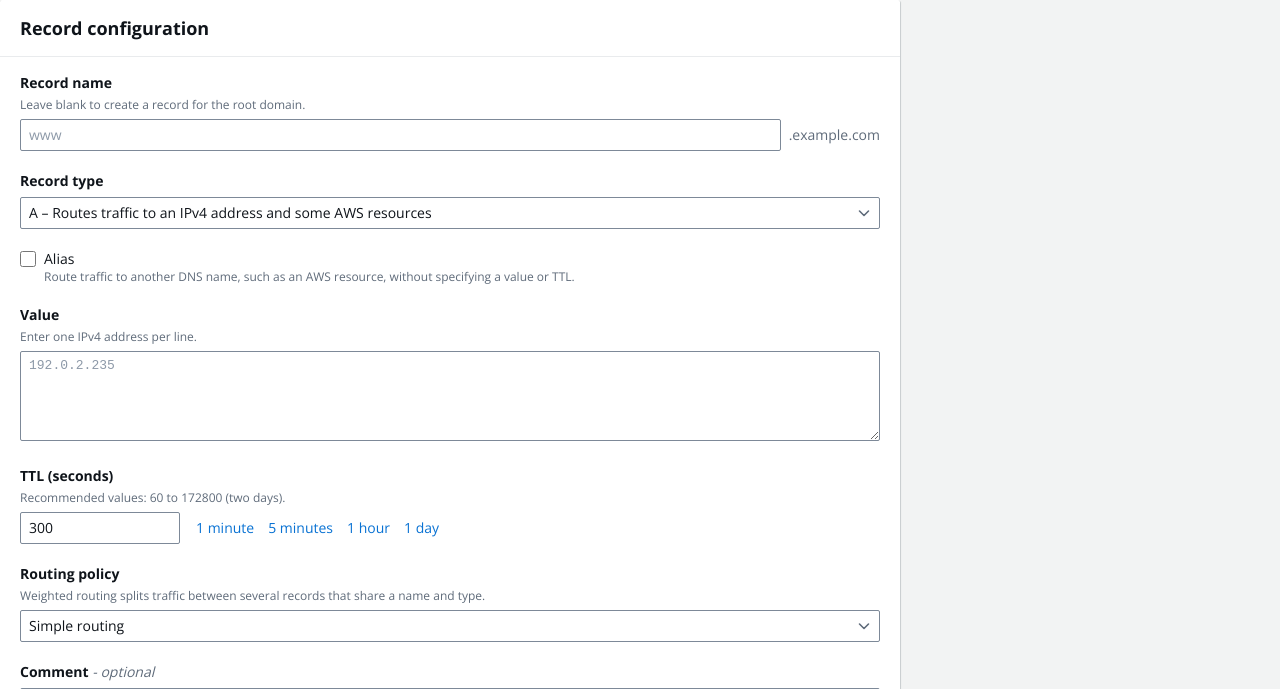
Test: <RecordForm> dynamic fields › offers alias only for the types that support it
Expected: the checkbox labelled "Alias" is shown, [20,251,36,267]
Select "TXT – Used to verify email senders and for application-specific values" in the dropdown labelled "Record type" at coordinates (450, 213), box [20,197,880,229]
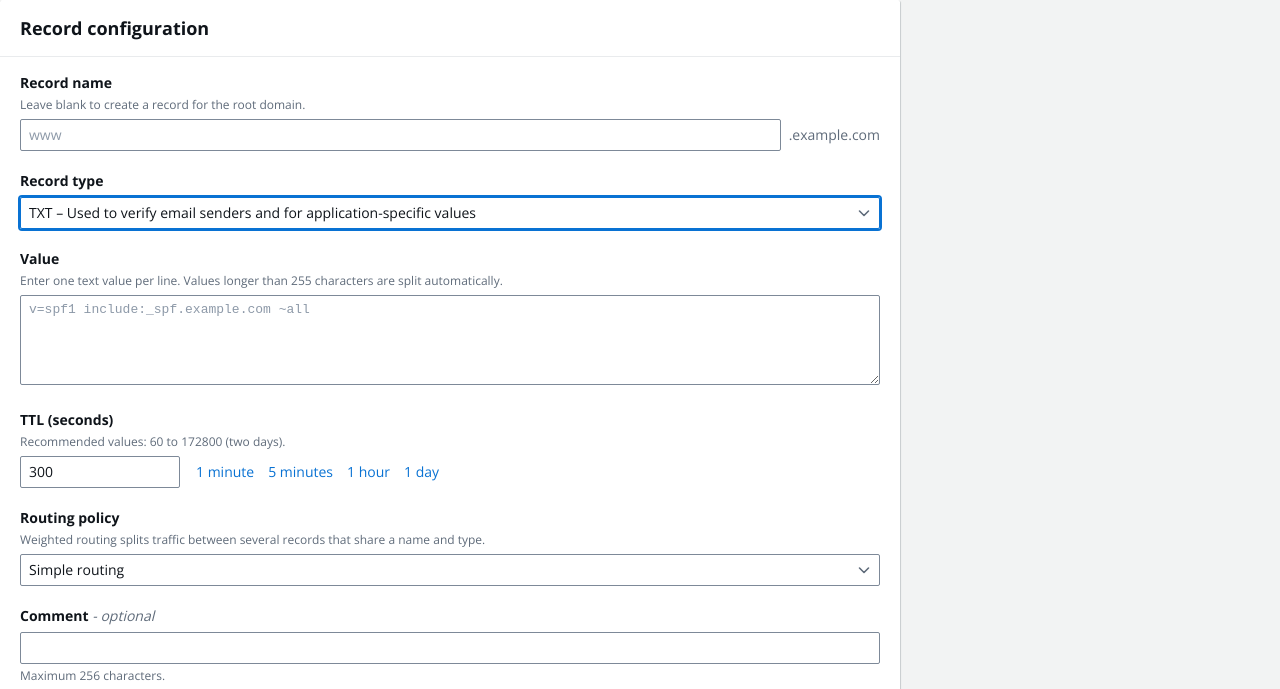
Result: the text "Alias" is gone
